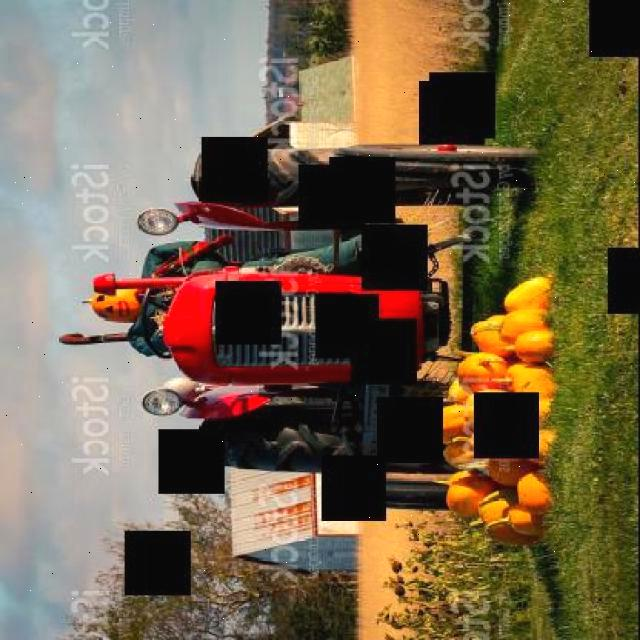Tratores - v5 YOLO V8L 2024-11-13: (46, 86, 597, 540)
